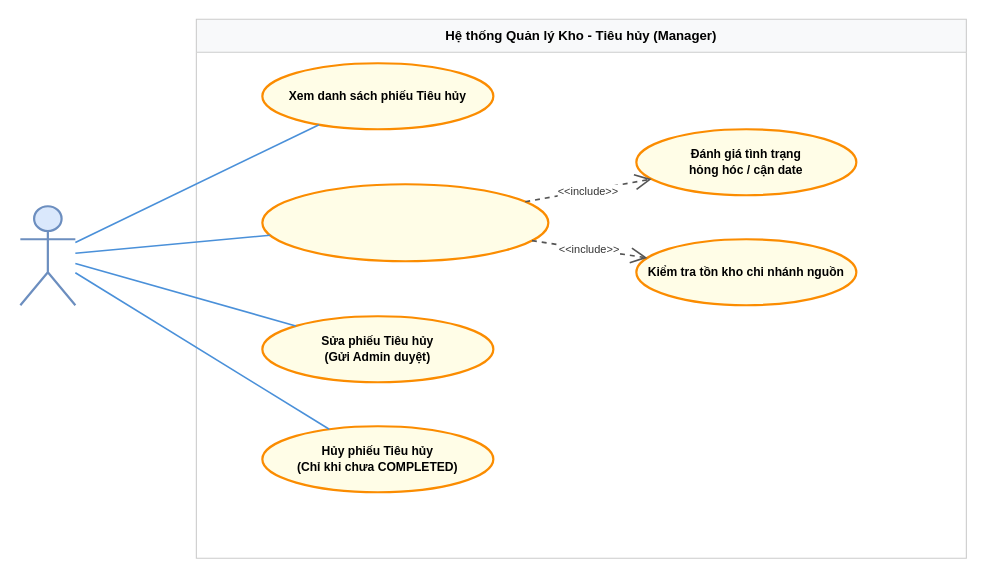
Some shapes in this 986 by 578 pixel diagram are drawn without their labels. Each missing label, with the centre of its shape:
Duyệt phiếu Tiêu hủy (PENDING_ADMIN → PENDING_STOCKTAKE): the point at 405,222
Manager: the point at 47,255
